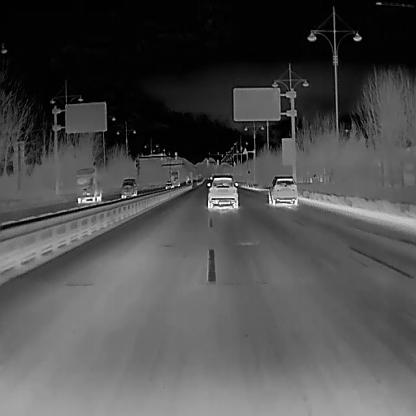car: (206, 173, 238, 211), (268, 174, 296, 204), (120, 177, 136, 198)
truck: (74, 168, 102, 202)
